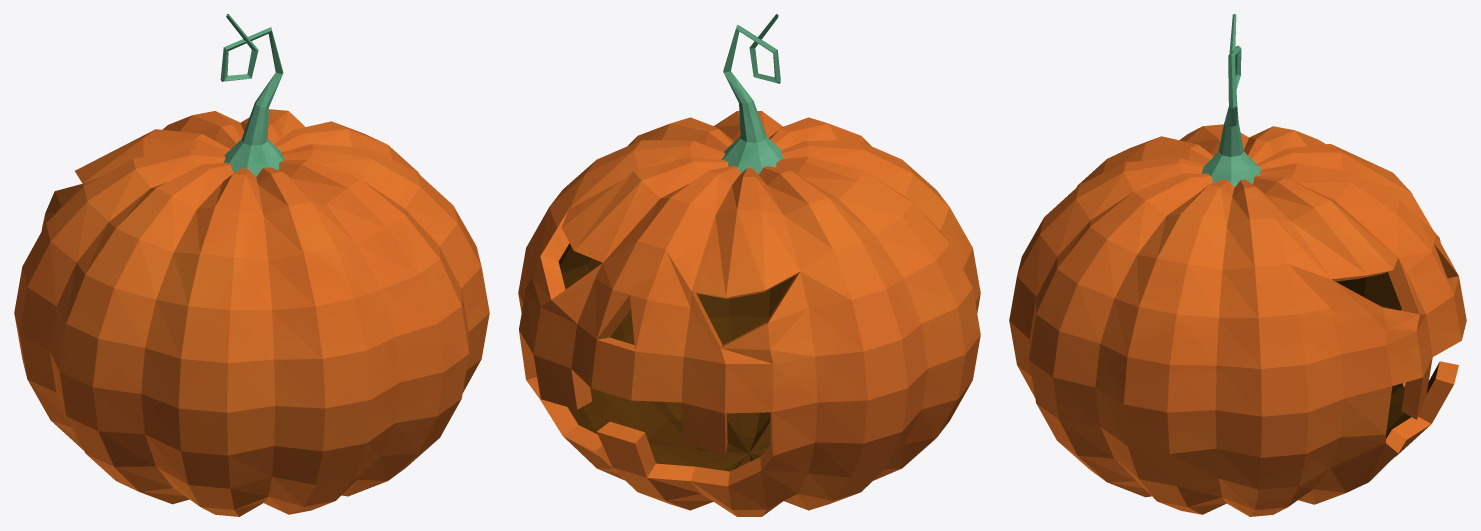
File: Pumpkin.glb
The picture shows the model from 3 angles, left to right: view 1: azimuth 30°, elevation 25°; view 2: azimuth 150°, elevation 25°; view 3: azimuth 270°, elevation 25°; orthographic projection. The views are drawn at different scales.
Visible parts, largest first — view 1: Pumpkin2; view 2: Pumpkin2; view 3: Pumpkin2.
Boxes of the visible parts, bbox=[...] form: Pumpkin2: bbox=[14, 14, 489, 516]; Pumpkin2: bbox=[518, 14, 980, 516]; Pumpkin2: bbox=[1009, 14, 1466, 516].
Bounding box in the file's own units: 3.48 × 3.8 × 3.5.
Materials: 1 (1 with a texture image).
